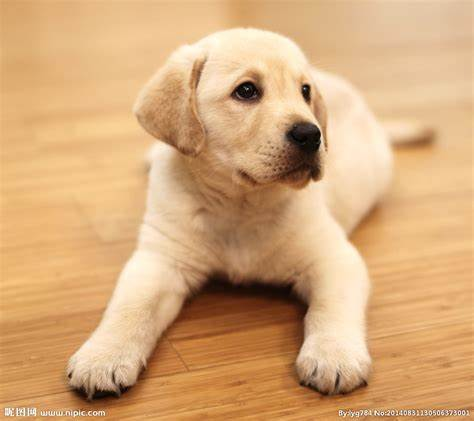狗: (91, 26, 379, 396)
